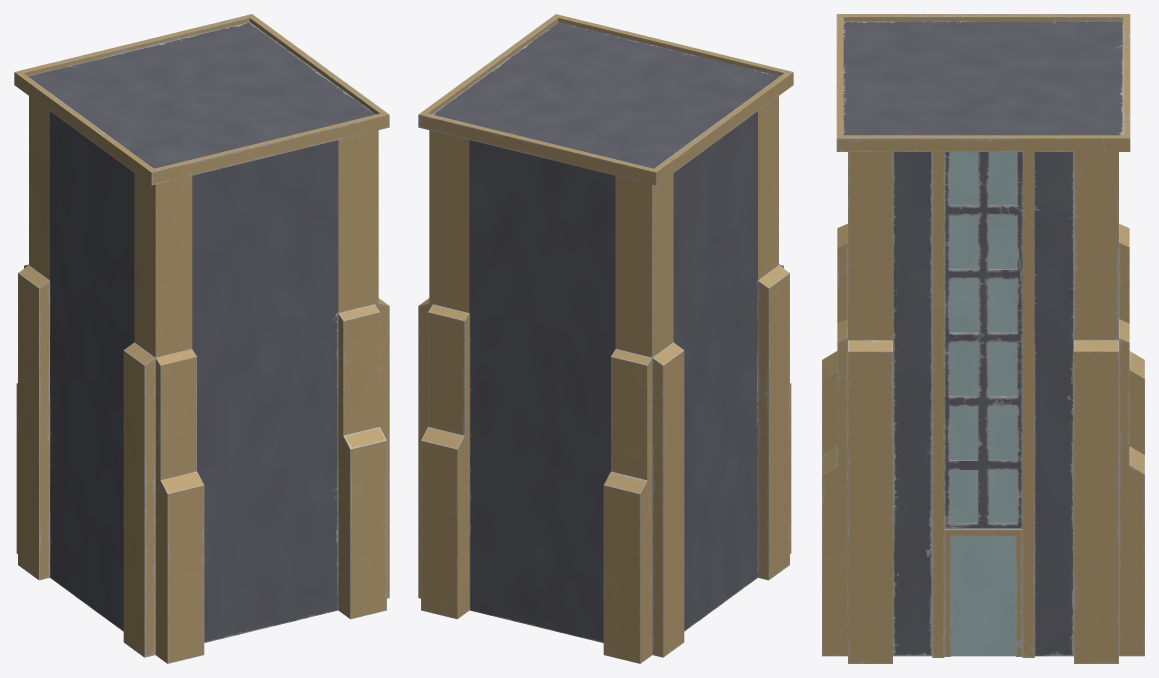
Rendered from Highrise_1.fbx.
3 views of the same model, side by side, from view 1: azimuth 30°, elevation 25°; view 2: azimuth 150°, elevation 25°; view 3: azimuth 270°, elevation 25° (orthographic). The views are drawn at different scales.
Visible parts, largest first — view 1: Highrise 2.001; view 2: Highrise 2.001; view 3: Highrise 2.001.
Boxes of the visible parts, x1=… form: Highrise 2.001: x1=14, y1=14, x2=389, y2=663; Highrise 2.001: x1=418, y1=14, x2=793, y2=663; Highrise 2.001: x1=822, y1=14, x2=1144, y2=663.
Size of the model in its own units: 223 by 426 by 238.
1 material, 1 textured.
